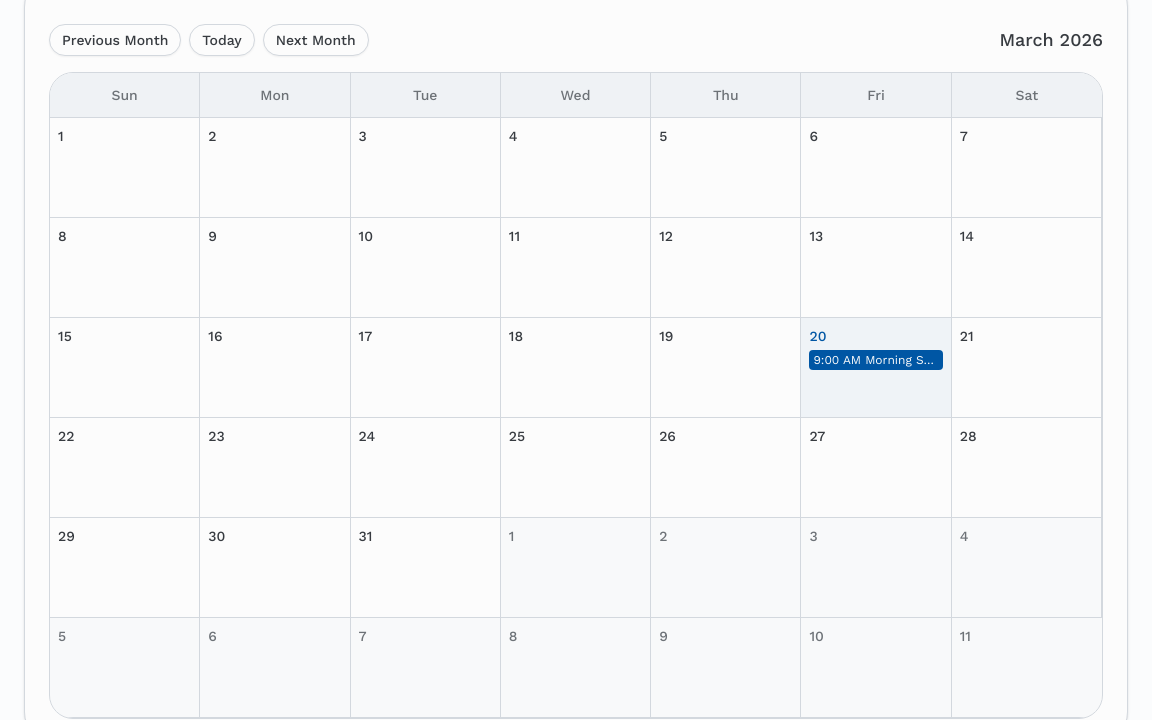
Schedule › renders multiple enrollment and attendance records for the same selected session
(page scrolled)
Click the button "9:00 AM Morning Safety Session" at point(876, 360), box left=809, top=350, right=943, bottom=370
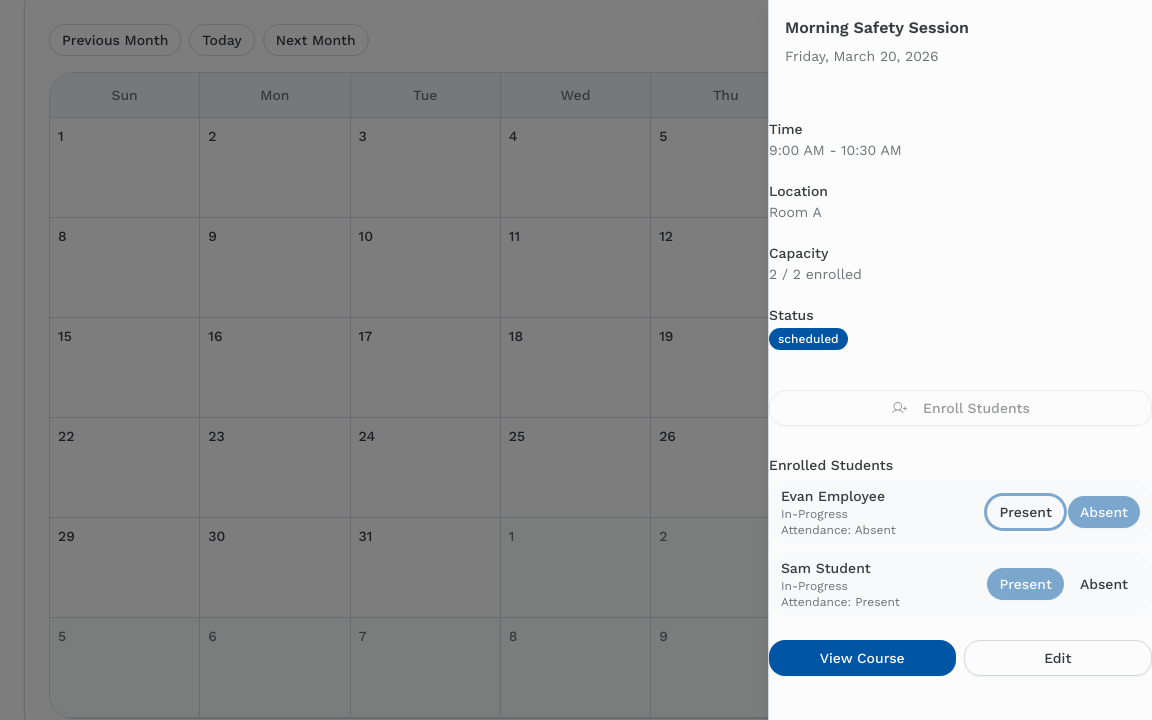
Now the text "Evan Employee" is shown, box left=781, top=486, right=896, bottom=506
Now the text "Sam Student" is shown, box left=781, top=560, right=871, bottom=576
Now the text "Attendance: absent" is shown, box left=781, top=522, right=896, bottom=538
